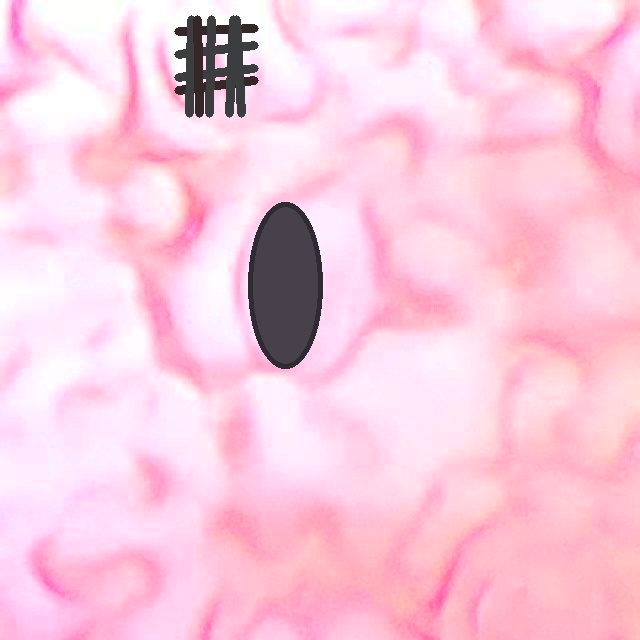open: (248, 202, 322, 368), (174, 15, 258, 117)
